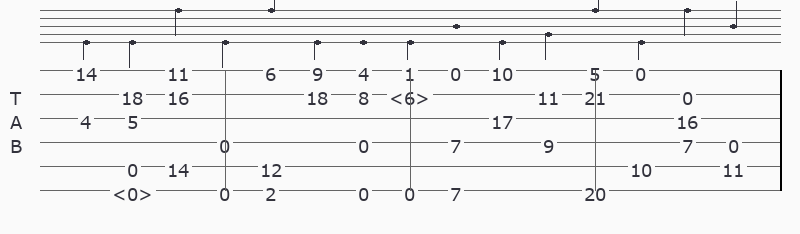0: (127, 158, 142, 175), (219, 182, 234, 199), (219, 134, 234, 151), (358, 182, 373, 199), (358, 134, 373, 151), (404, 182, 419, 199), (450, 62, 465, 79), (635, 62, 650, 79), (682, 86, 697, 103), (728, 134, 743, 151)
1: (404, 62, 419, 79)
10: (491, 62, 517, 79), (630, 158, 656, 175)
11: (167, 62, 193, 79), (537, 86, 563, 103), (722, 158, 748, 175)
12: (260, 158, 286, 175)
14: (75, 62, 101, 79), (167, 158, 193, 175)
16: (167, 86, 193, 103), (676, 110, 702, 127)
17: (491, 110, 517, 127)
18: (121, 86, 147, 103), (306, 86, 332, 103)
2: (265, 182, 280, 199)
20: (584, 182, 610, 199)
21: (584, 86, 610, 103)
4: (80, 110, 95, 127), (358, 62, 373, 79)
5: (127, 110, 142, 127), (589, 62, 604, 79)
6: (265, 62, 280, 79)
7: (450, 134, 465, 151), (450, 182, 465, 199), (682, 134, 697, 151)
8: (358, 86, 373, 103)
9: (312, 62, 327, 79), (543, 134, 558, 151)
harmonic: (112, 182, 157, 199), (389, 86, 434, 103)
